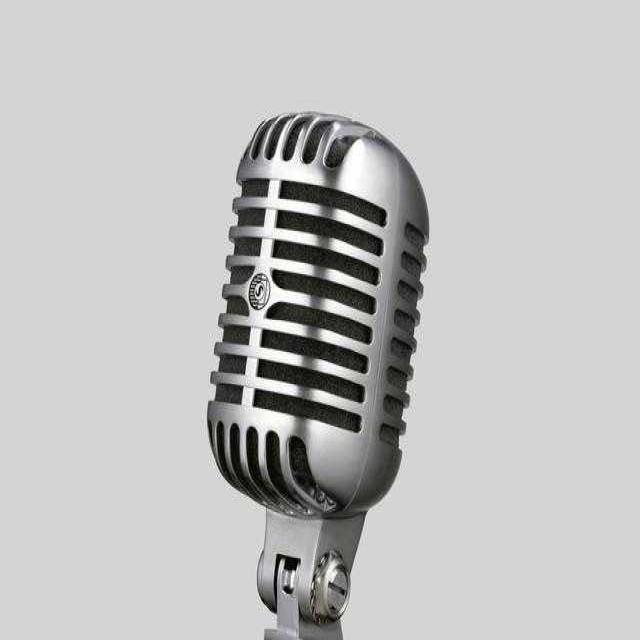microphone: (211, 115, 428, 635)
